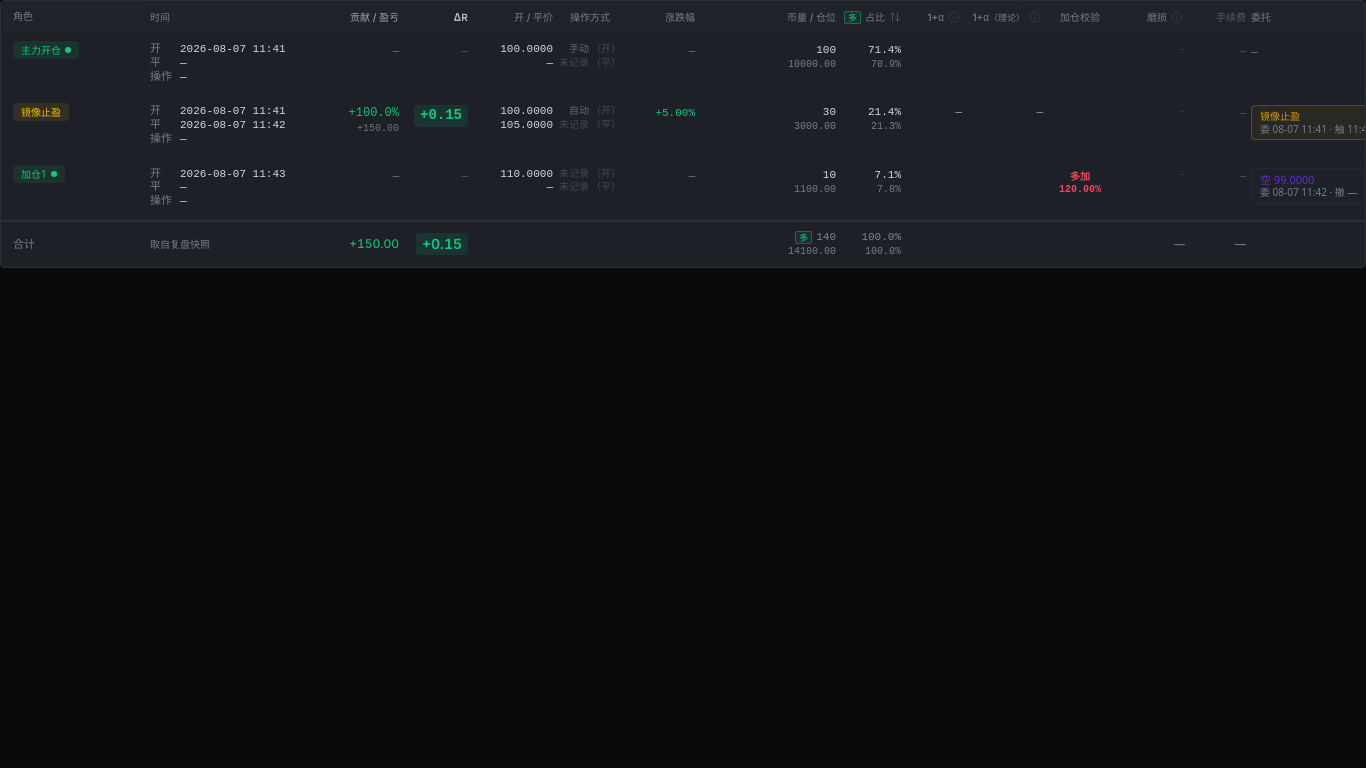
Test: 止损线仍低于成本线时，已落袋收益可覆盖加仓 › 虽有落袋收益，但覆盖旧仓亏损后不足以承担新增风险：保留红叉与缺口
What coordinates should you click on to do the following:
click the button with test id "add-sizing-check-fail-add1"
I would click on:
 (1080, 184)
Its box is [1048, 168, 1112, 200].
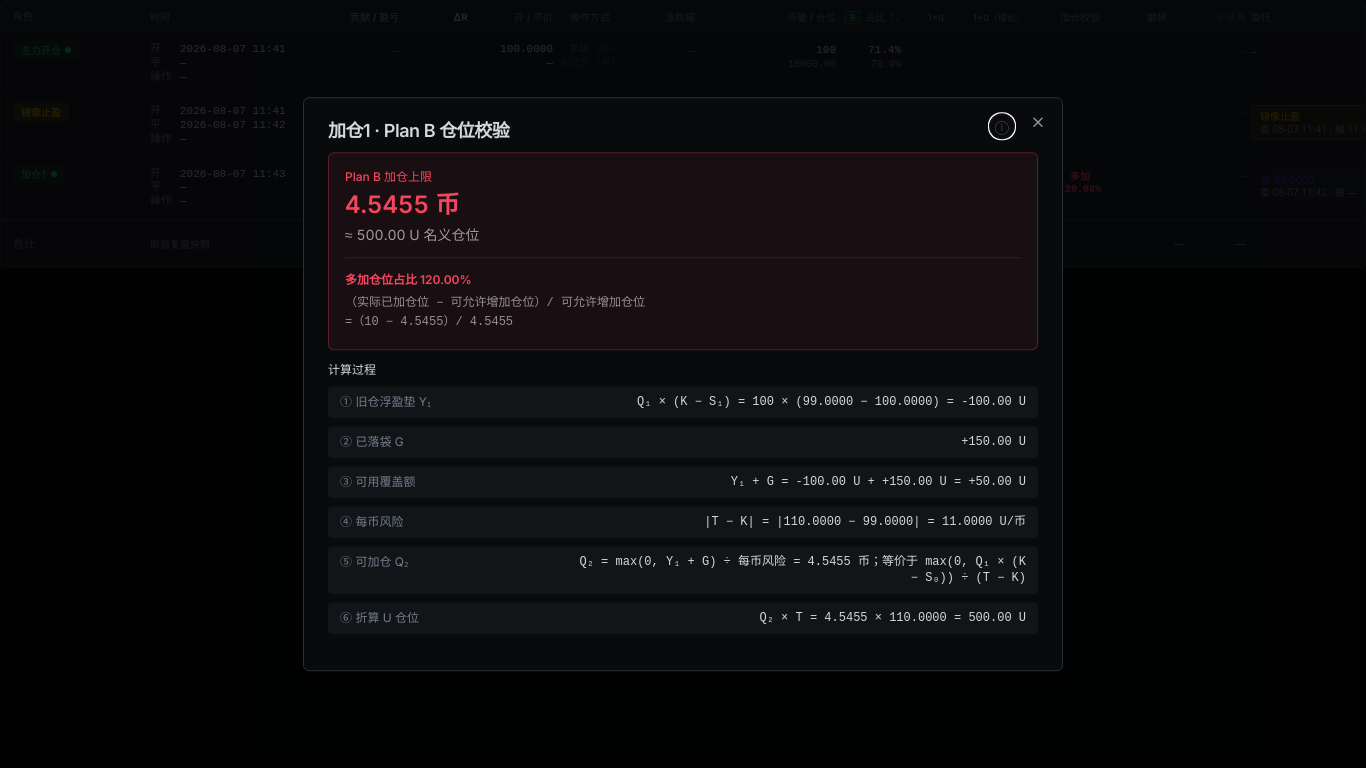
Check: the dialog with test id "add-sizing-detail-dialog" shows "Y₁ + G = -100.00 U + +150.00 U = +50.00 U", box [303, 97, 1063, 671]
